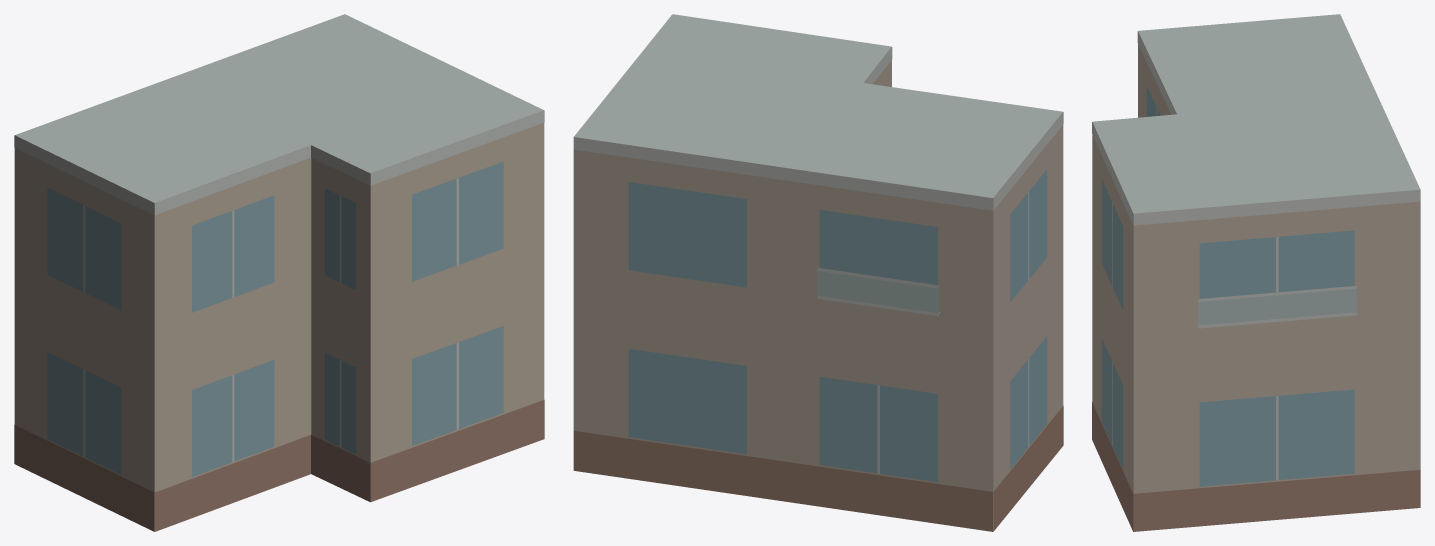
The model's file is survey-upis-32500561.glb.
3 views of the same model, side by side, from view 1: azimuth 30°, elevation 25°; view 2: azimuth 150°, elevation 25°; view 3: azimuth 270°, elevation 25° (orthographic). The views are drawn at different scales.
Parts seen in each view (by area): view 1: survey-upis-32500561.tmp; view 2: survey-upis-32500561.tmp; view 3: survey-upis-32500561.tmp.
Boxes of the visible parts, <box> form: survey-upis-32500561.tmp: <box>14,14,544,531</box>; survey-upis-32500561.tmp: <box>573,14,1063,531</box>; survey-upis-32500561.tmp: <box>1092,14,1420,531</box>.
Bounding box in the file's own units: 8.76 × 6.5 × 6.09.
